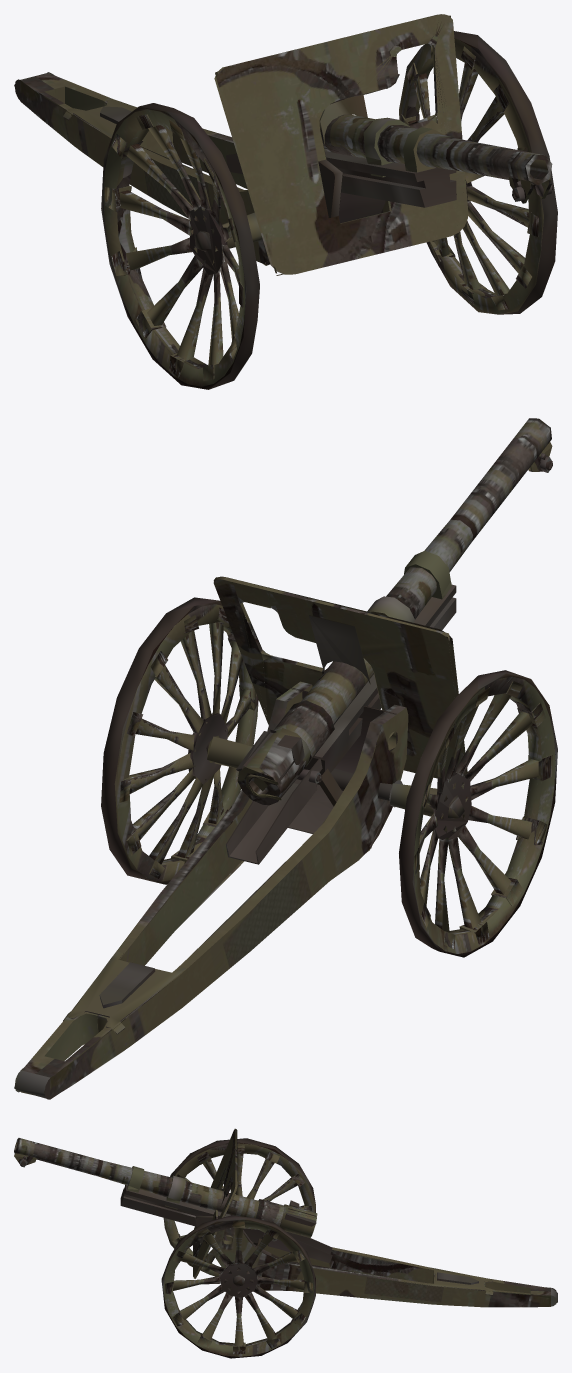
Rendered from arty75f.dae.
3 views of the same model, one above another, from view 1: azimuth 30°, elevation 25°; view 2: azimuth 150°, elevation 25°; view 3: azimuth 270°, elevation 25° (orthographic). The views are drawn at different scales.
Parts seen in each view (by area): view 1: wheels, sleeve, base, gun; view 2: wheels, base, sleeve, gun; view 3: wheels, base, gun, sleeve.
Part boxes in pixels (box(x1,y1,x2,y2)): wheels: box(101, 31, 557, 389); sleeve: box(214, 14, 467, 275); base: box(14, 72, 389, 265); gun: box(319, 114, 552, 203); wheels: box(101, 597, 557, 957); base: box(14, 681, 437, 1099); sleeve: box(213, 576, 467, 864); gun: box(236, 418, 552, 805); wheels: box(161, 1138, 315, 1358); base: box(213, 1227, 557, 1307); gun: box(14, 1138, 317, 1237); sleeve: box(120, 1128, 332, 1278).
Size of the model in its own units: 26.24 by 74.74 by 27.3.
